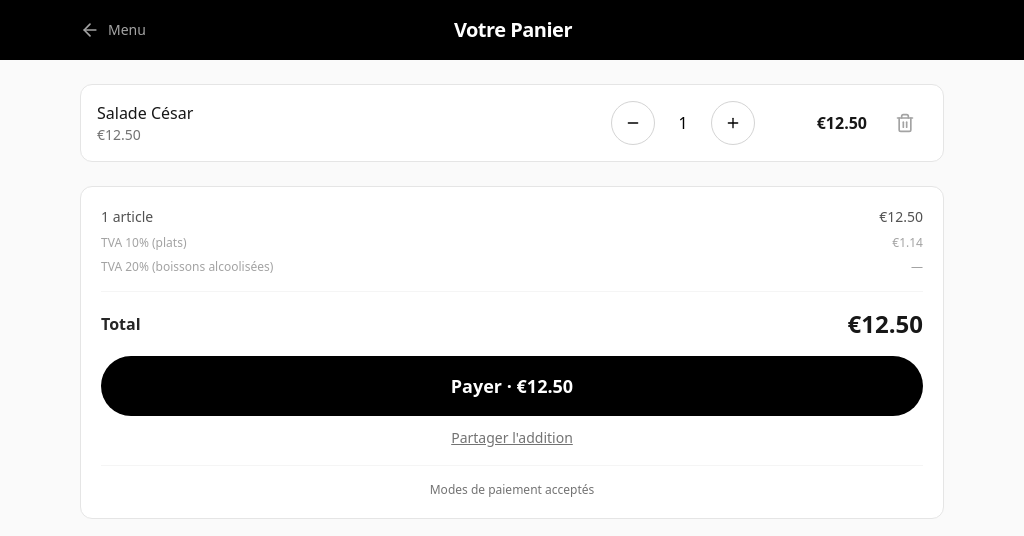
CartPage — quantity controls › removes item when quantity decremented to 0
Click the button named "Diminuer la quantité — Salade César" at (633, 123), box [611,101,655,145]
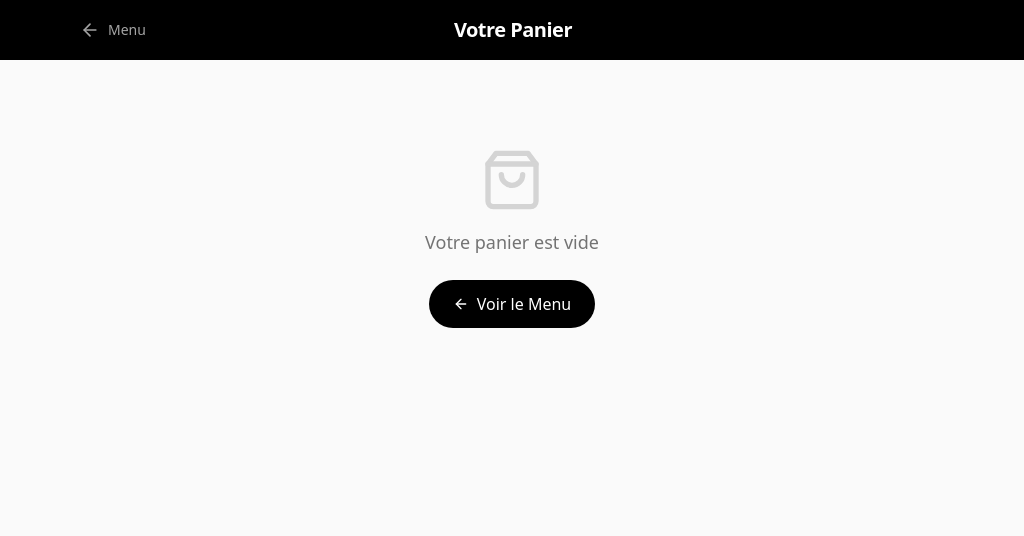
Expected: the heading "Salade César" is gone
